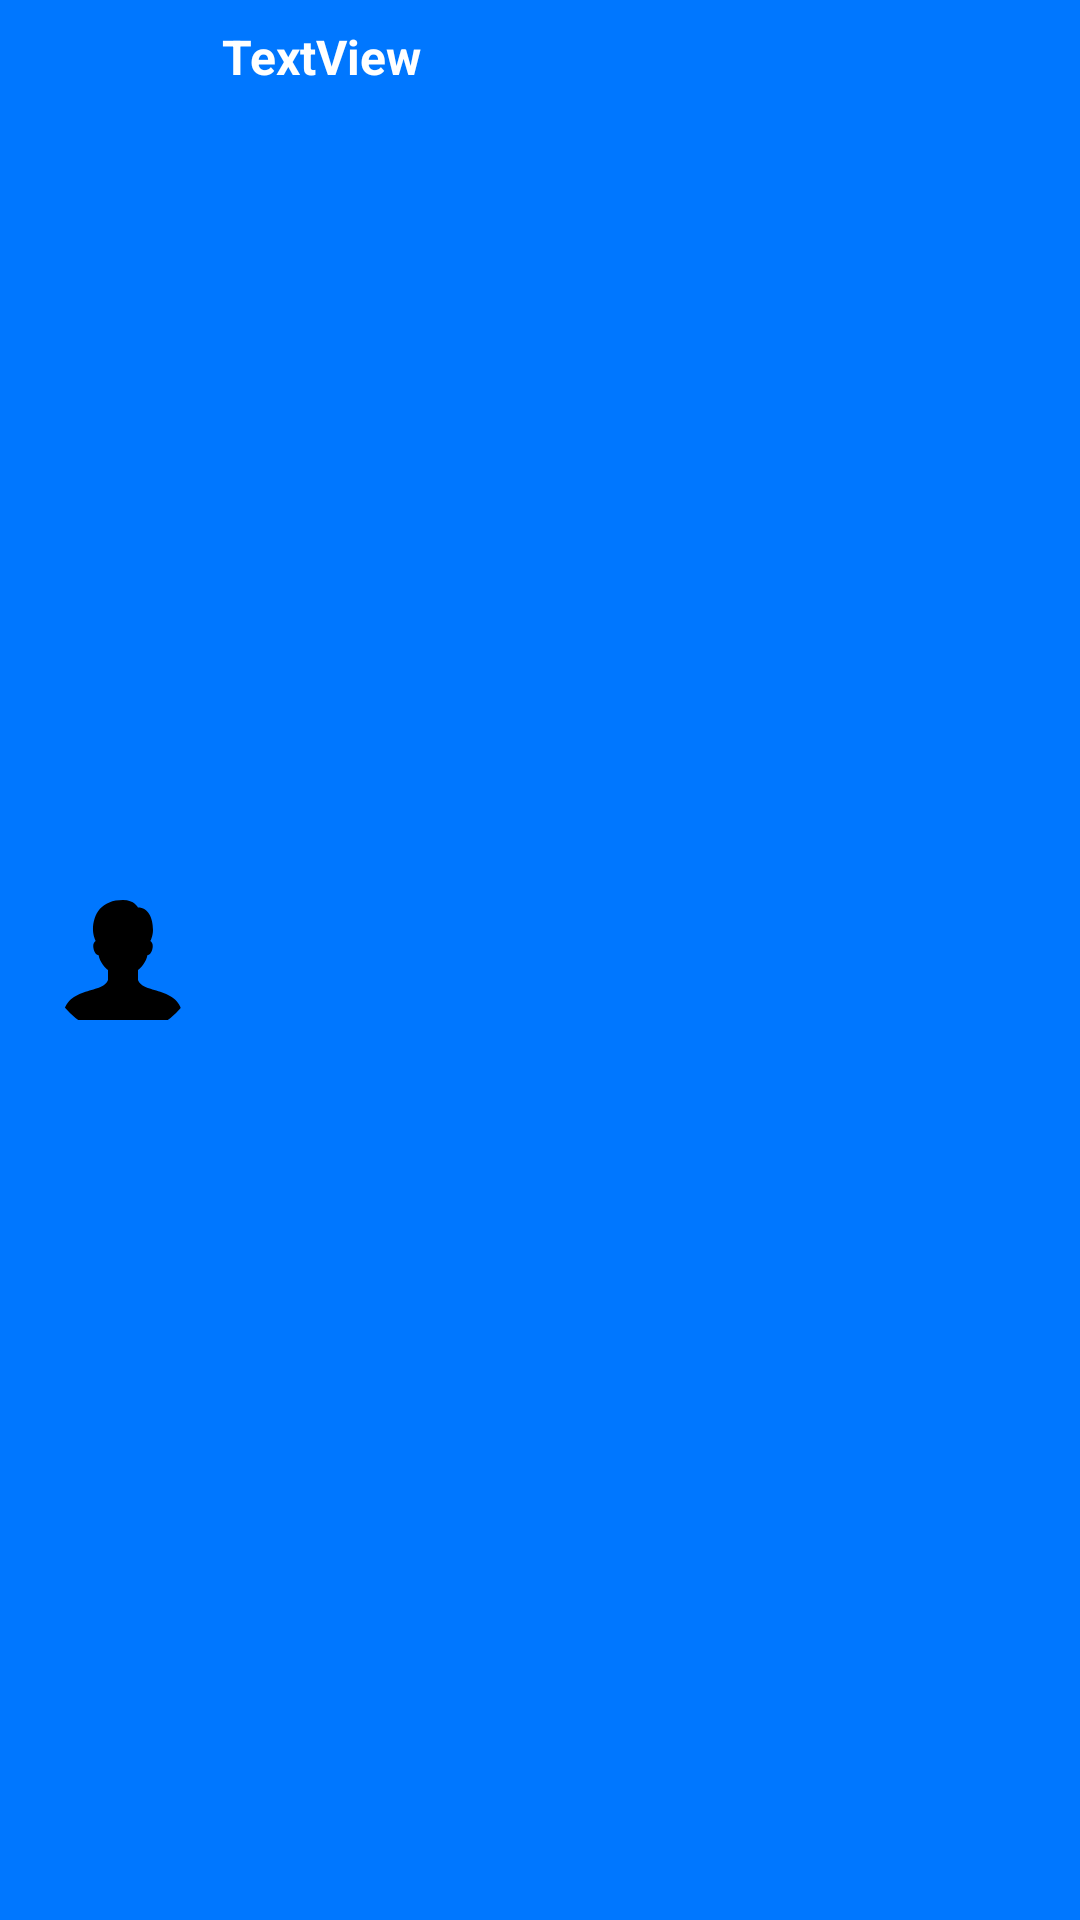

Icons on this 1080 × 1920 Android screen, each with its box as (x1, y1, x2, y2):
person: (65, 900, 181, 1020)
